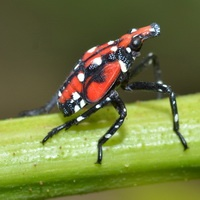insect: (20, 23, 187, 163)
